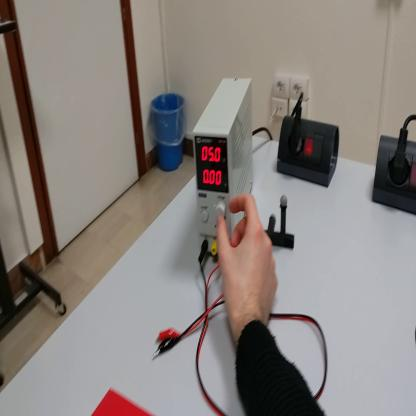hand: (216, 195, 279, 327)
power supply: (191, 78, 253, 260)
register: (92, 387, 153, 413)
socket: (276, 115, 341, 188), (369, 135, 416, 215)
